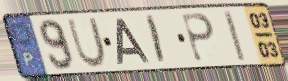9: (36, 16, 76, 72)
A: (115, 17, 153, 66)
I: (221, 9, 248, 64), (145, 13, 168, 66)
P: (180, 12, 217, 65)
U: (65, 16, 109, 69)
